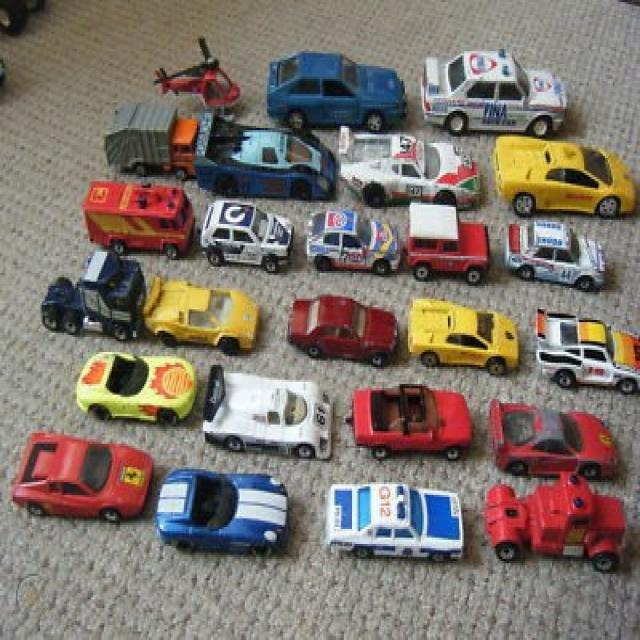Car: (202, 365, 331, 454), (346, 384, 470, 459), (144, 277, 258, 350), (408, 299, 517, 373), (83, 183, 194, 254), (288, 297, 397, 365), (200, 201, 293, 271), (307, 209, 400, 273)
